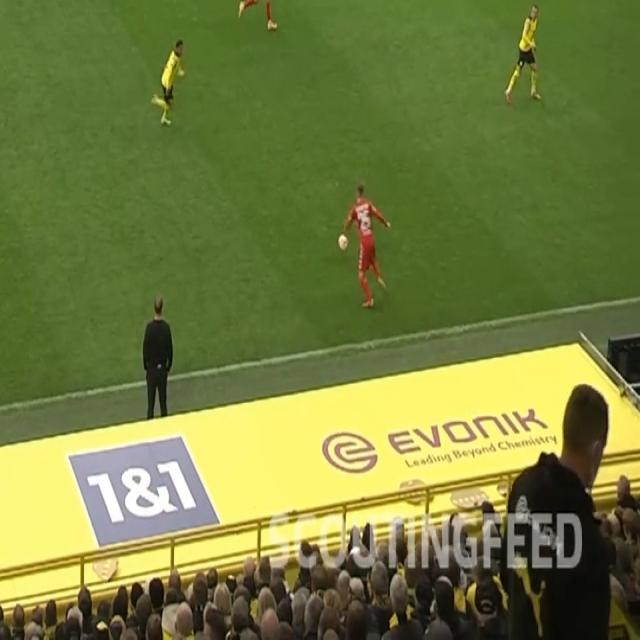ball: (337, 233, 350, 252)
